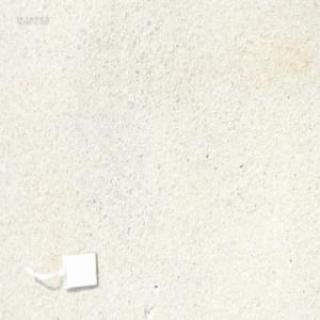LuggageTagtrack_idkeyframe: (20, 246, 99, 292)
